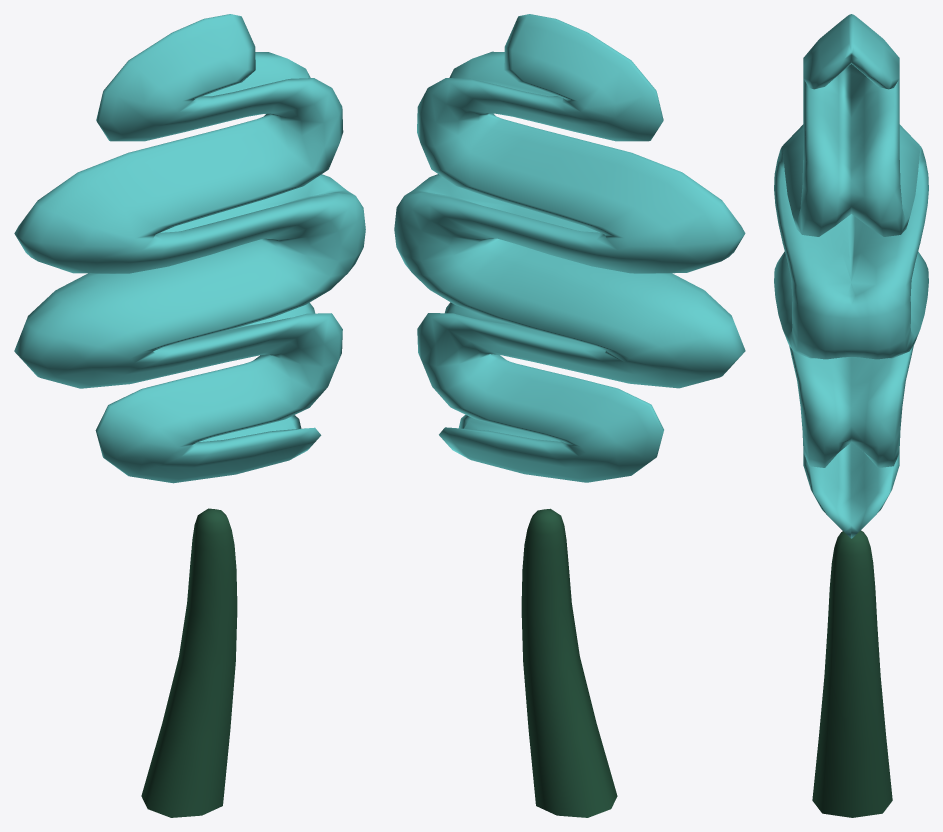
File: tree-floating.glb
3 views of the same model, side by side, from view 1: azimuth 30°, elevation 25°; view 2: azimuth 150°, elevation 25°; view 3: azimuth 270°, elevation 25° (orthographic).
Parts seen in each view (by area): view 1: Tree_Floating_1; view 2: Tree_Floating_1; view 3: Tree_Floating_1.
Boxes of the visible parts, bbox=[...] form: Tree_Floating_1: bbox=[14, 14, 365, 817]; Tree_Floating_1: bbox=[394, 14, 745, 817]; Tree_Floating_1: bbox=[774, 14, 928, 817].
Size of the model in its own units: 2.09 by 4.61 by 0.8259.
1 material, 1 textured.
